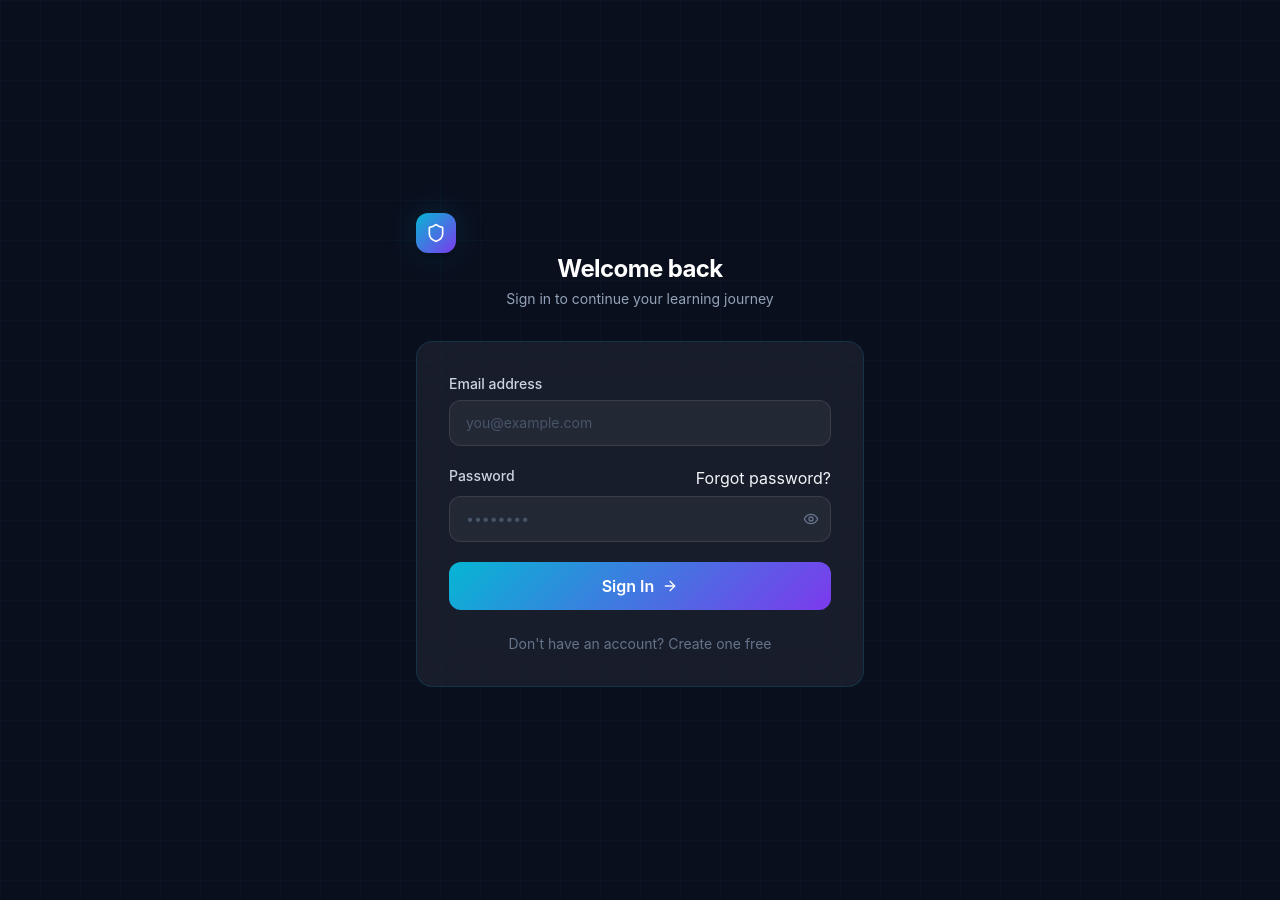
Test case: shows login validation and lets the user reveal the password
Type "not-an-email" into the field labelled "Email address" at (640, 423), box [449,400,831,446]
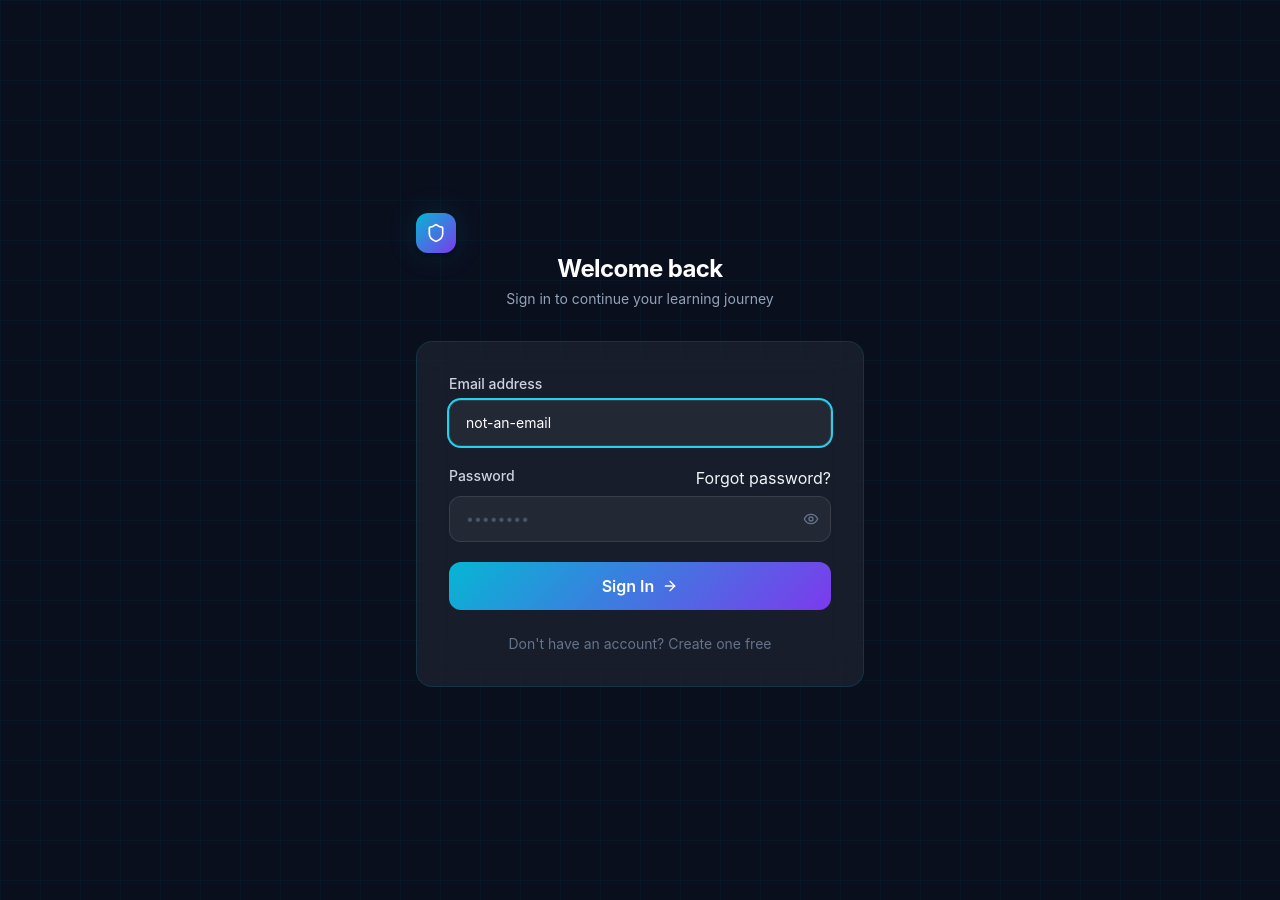
Type "short" into the password field labelled "Password" at (640, 519), box [449,496,831,542]
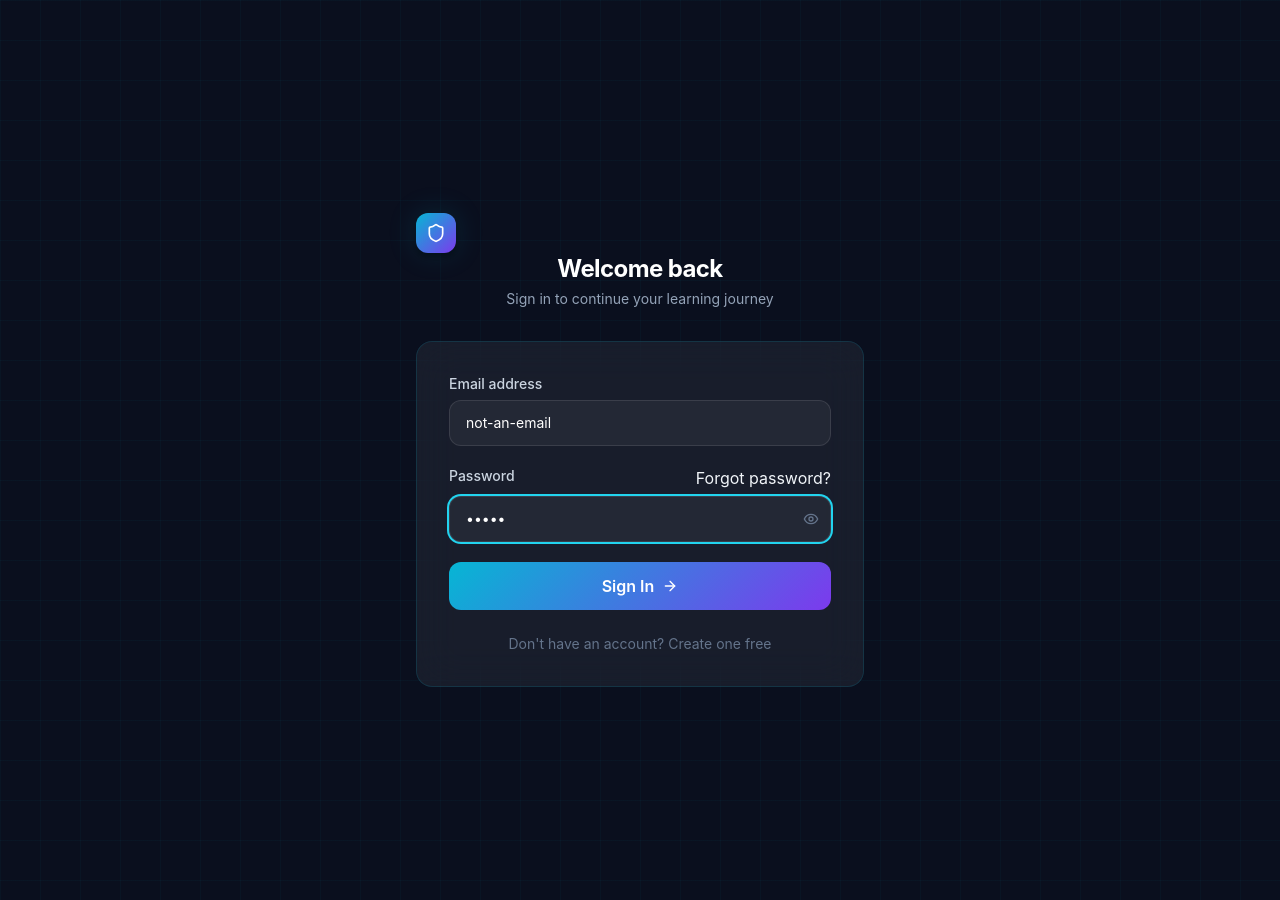
Click the button "Sign In" at (640, 586), box [449,562,831,610]
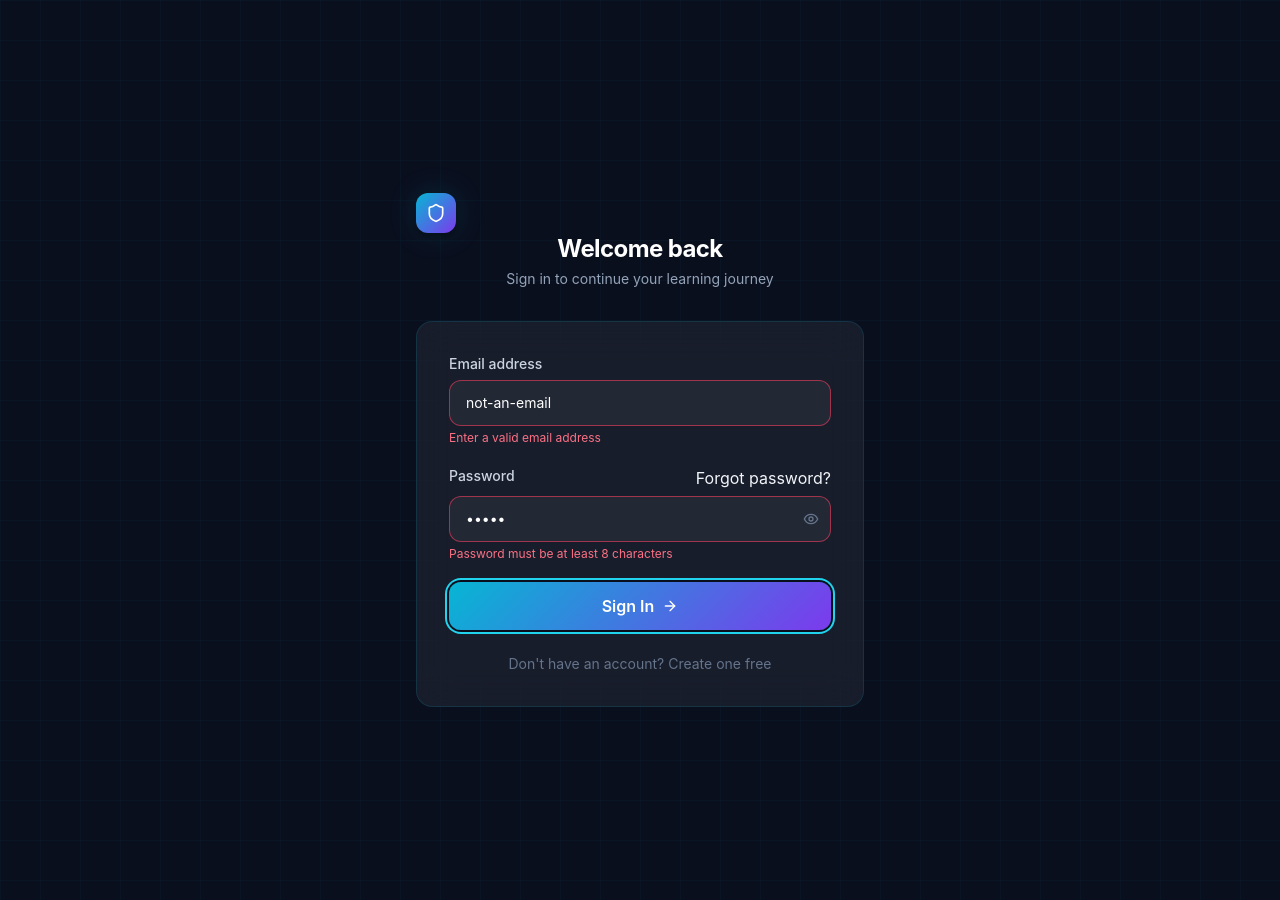
Check: the text "Enter a valid email address" is shown, box [449,430,601,445]
Check: the text "Password must be at least 8 characters" is shown, box [449,546,673,561]
Click the button named "Show password" at (811, 519), box [803,511,819,527]
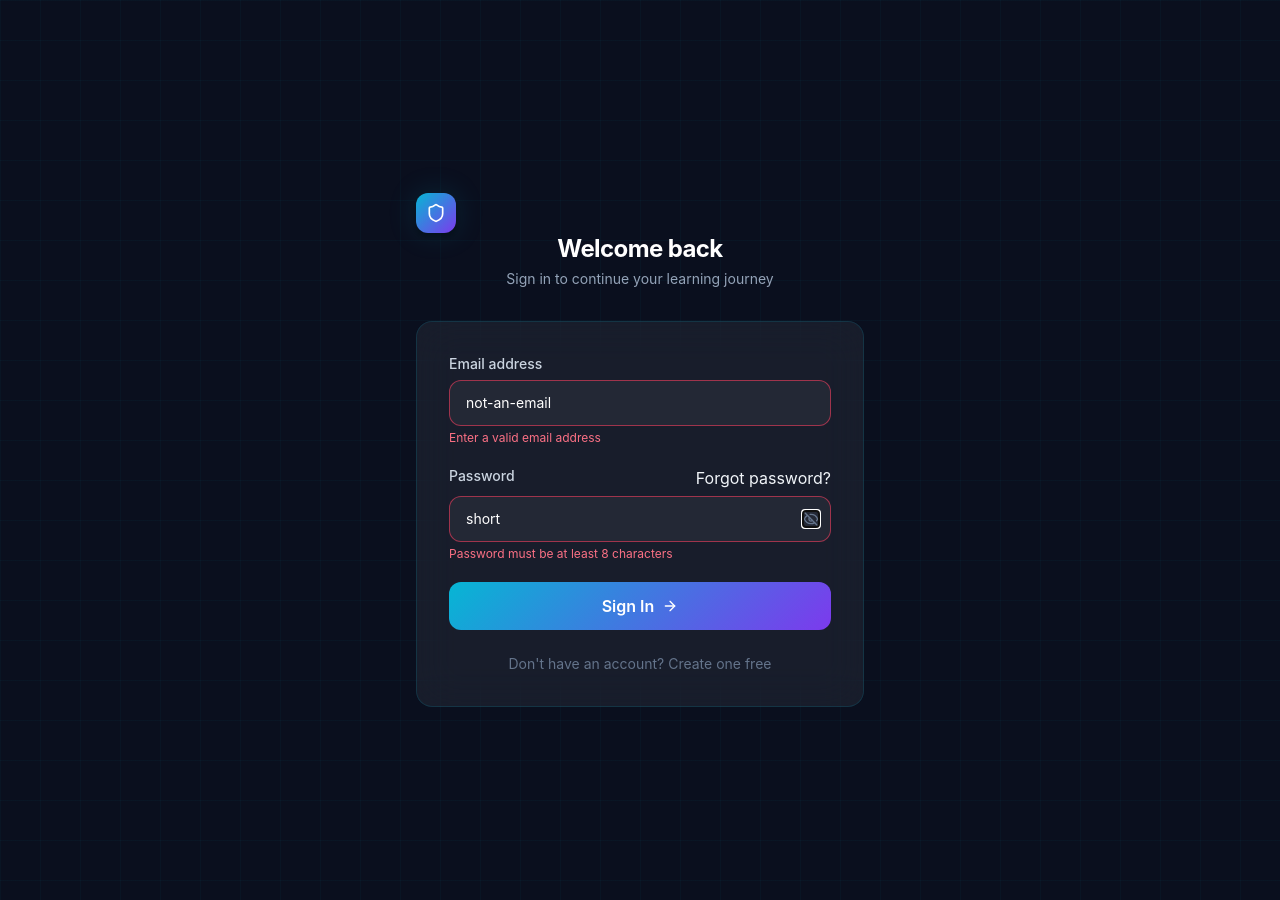
Check: the field labelled "Password" shows its text, box [449,496,831,542]
